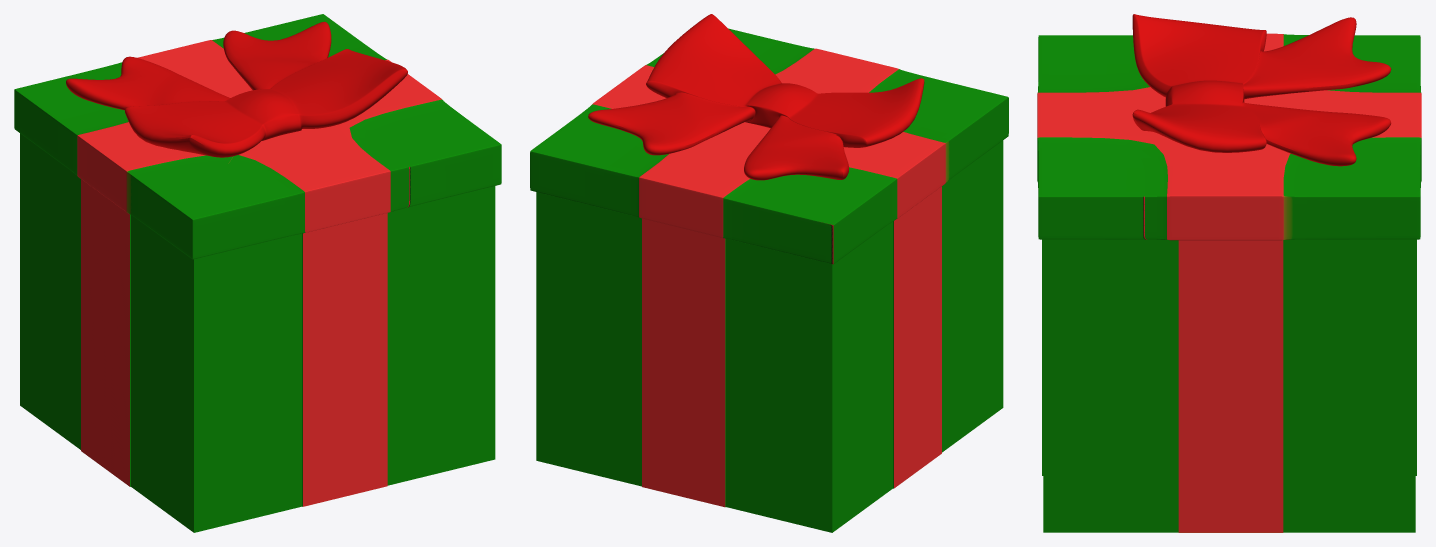
The model's file is PresenteMeioAMeio.fbx.
3 renders of one model, left to right at view 1: azimuth 30°, elevation 25°; view 2: azimuth 150°, elevation 25°; view 3: azimuth 270°, elevation 25°, orthographic. The views are drawn at different scales.
Parts seen in each view (by area): view 1: Cube.004, Plane.004, Plane.006; view 2: Cube.004, Plane.004, Plane.006; view 3: Cube.004, Plane.004, Plane.006.
Boxes of the visible parts, box(x1,y1,x2,y2) form: Cube.004: box(20, 133, 495, 532); Plane.004: box(14, 14, 501, 259); Plane.006: box(66, 21, 407, 157); Cube.004: box(536, 140, 1003, 532); Plane.004: box(530, 28, 1008, 264); Plane.006: box(588, 14, 924, 180); Cube.004: box(1042, 239, 1416, 532); Plane.004: box(1037, 33, 1421, 240); Plane.006: box(1132, 14, 1391, 166).
Size of the model in its own units: 206 by 206 by 235.
